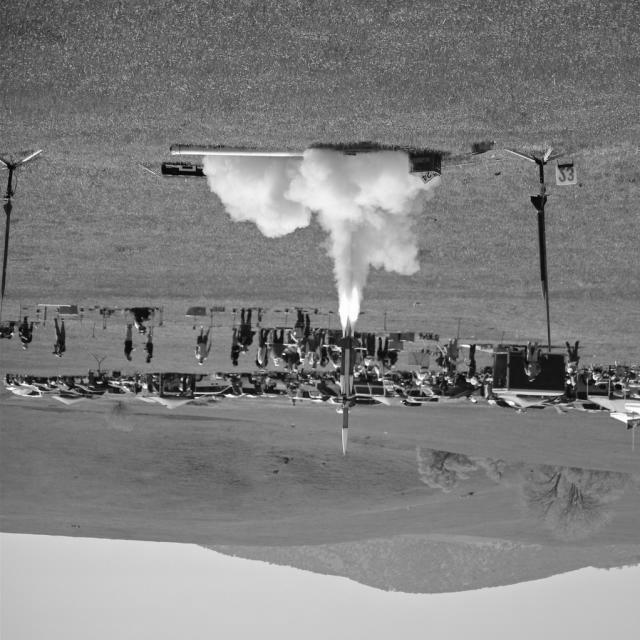missile: (332, 336, 361, 455), (529, 192, 548, 298)
